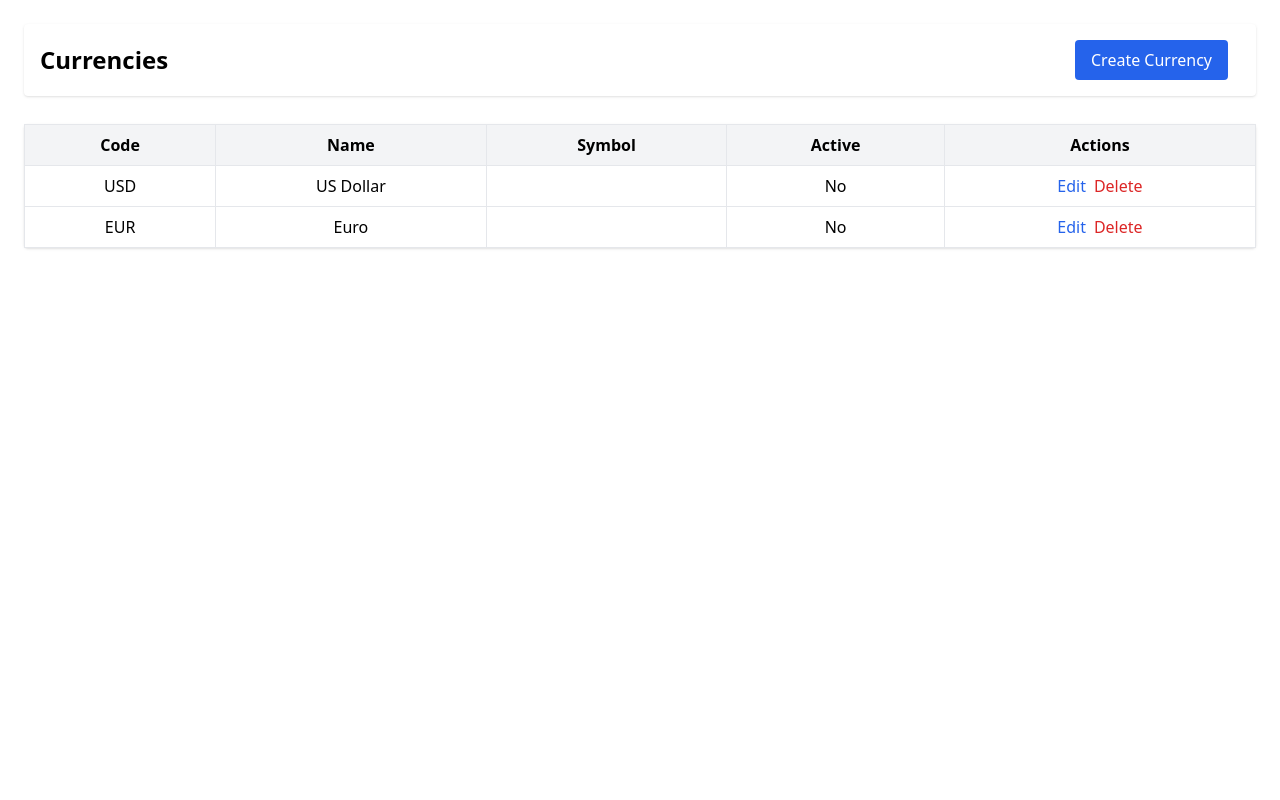
CurrencyPage › renders currency list and opens form on "Create Currency"
The image size is (1280, 800).
Expected: the text "Currencies" is shown, 40,44 -> 168,76
Expected: the text "US Dollar" is shown, 216,166 -> 486,206
Note: Click "Create Currency"
Click the button "Create Currency" at (1152, 60), box 1075,40 -> 1228,80
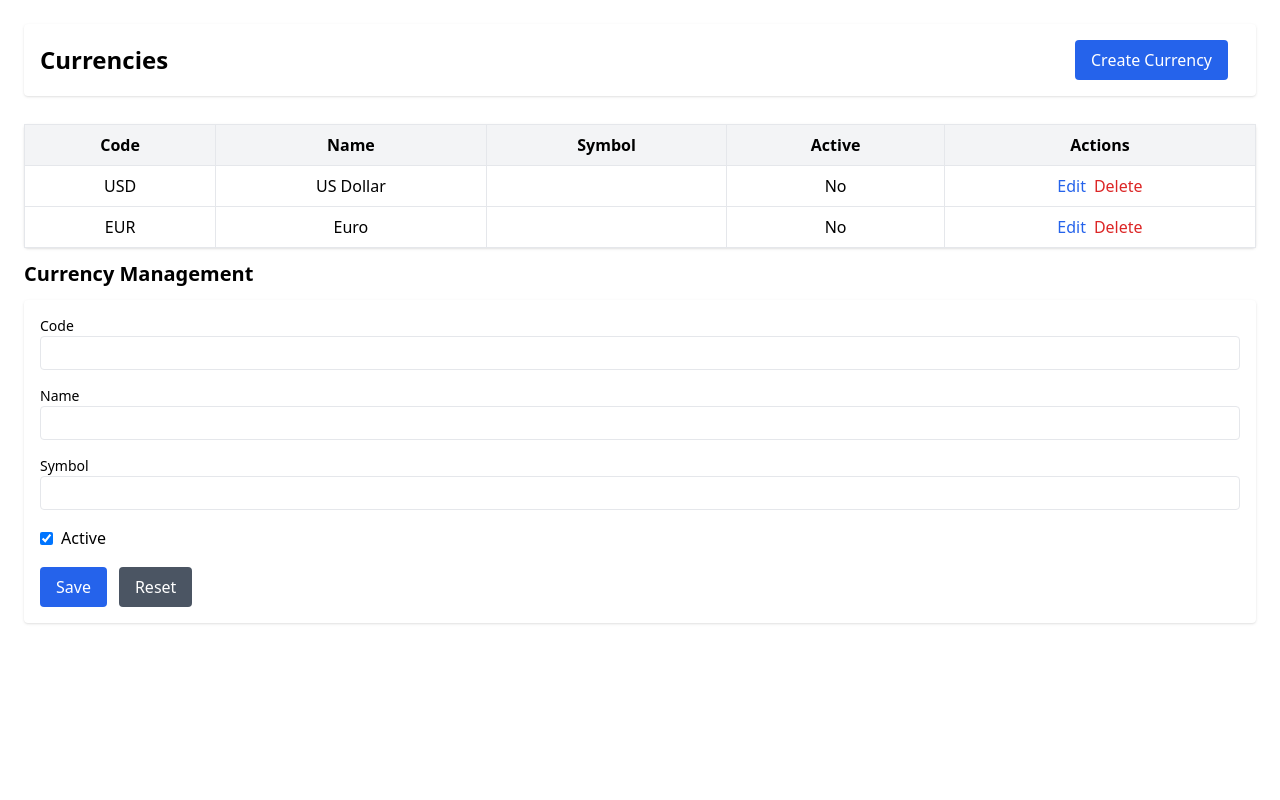
Result: the heading "Currency Management" is shown at 24,260 -> 253,287
Result: the button "Save" is shown at 40,566 -> 107,606
